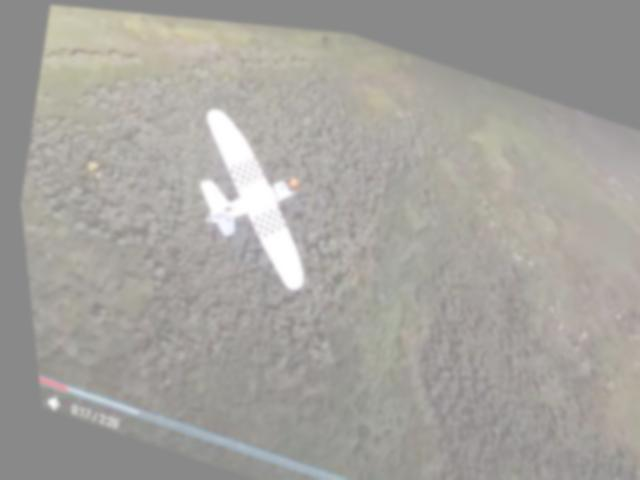uav: (166, 97, 338, 295)
